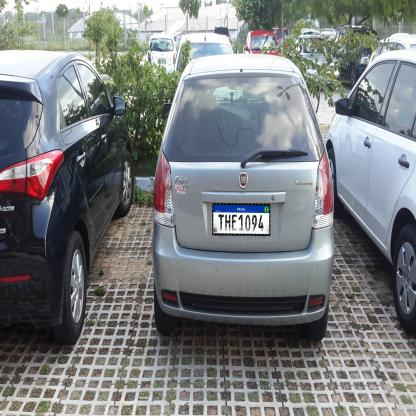PlacaM: (212, 203, 270, 236)
